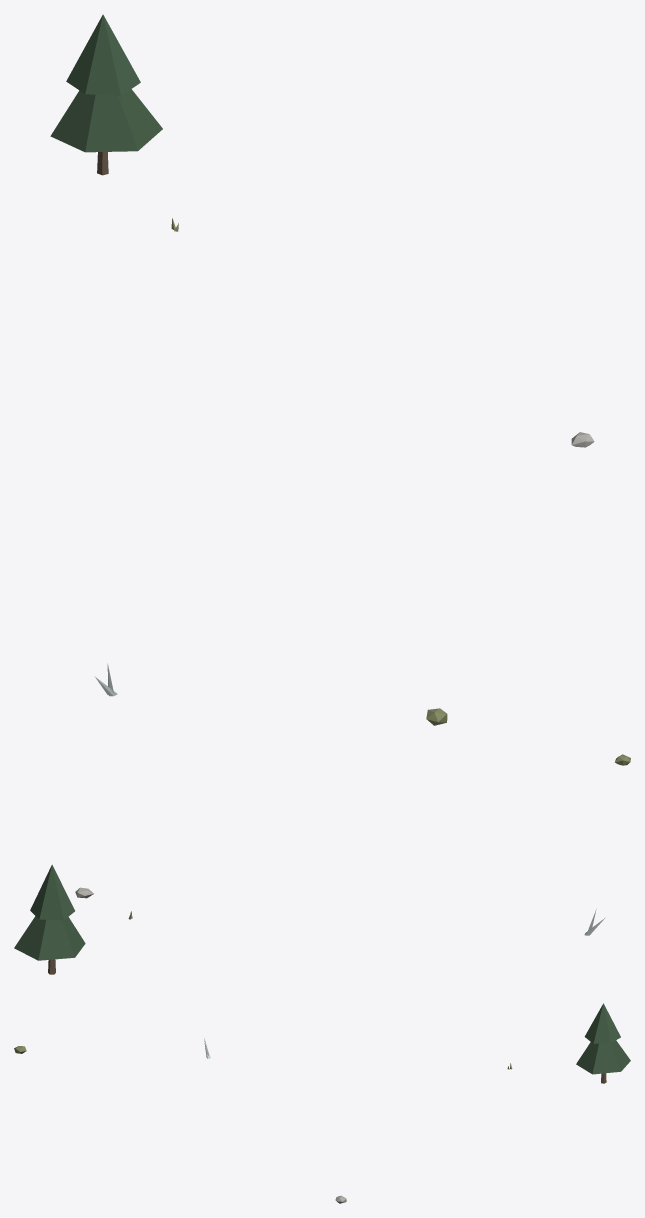
Rendered from coast_land_scatter_c14_19_lod1.glb.
3 views of the same model, one above another, from view 1: azimuth 30°, elevation 25°; view 2: azimuth 150°, elevation 25°; view 3: azimuth 270°, elevation 25° (orthographic). The views are drawn at different scales.
Parts seen in each view (by area): view 1: coast_land_scatter_c14_19_lod1; view 2: coast_land_scatter_c14_19_lod1; view 3: coast_land_scatter_c14_19_lod1.
Part boxes in pixels (bbox=[...]): coast_land_scatter_c14_19_lod1: bbox=[50, 14, 594, 725]; coast_land_scatter_c14_19_lod1: bbox=[14, 754, 630, 974]; coast_land_scatter_c14_19_lod1: bbox=[14, 1003, 630, 1203].
Size of the model in its own units: 41.02 by 18.35 by 68.99.
